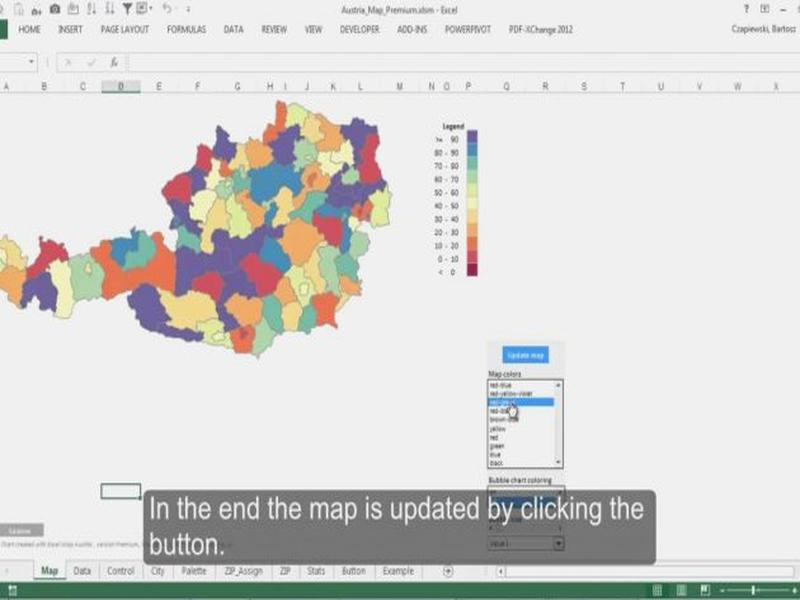legend: (432, 121, 484, 282)
